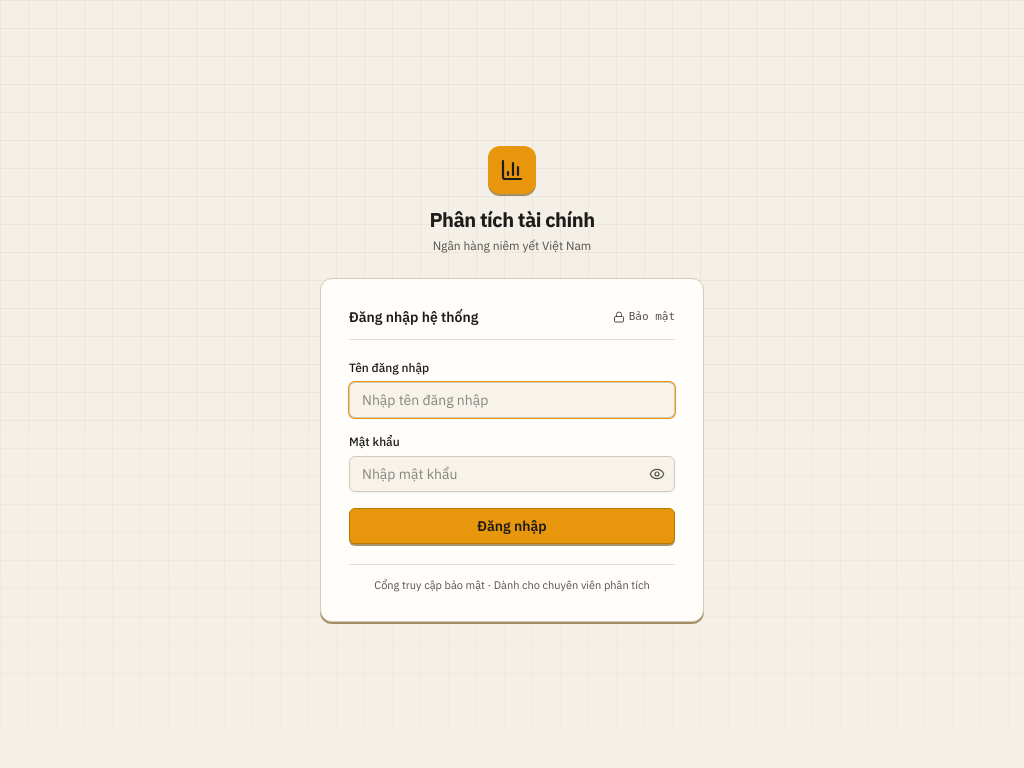
it: LoginPage › displays Vietnamese error message on invalid credentials (401)
Step 1. Type "analyst" into the field labelled "Tên đăng nhập" → (512, 400), box [349,382,675,418]
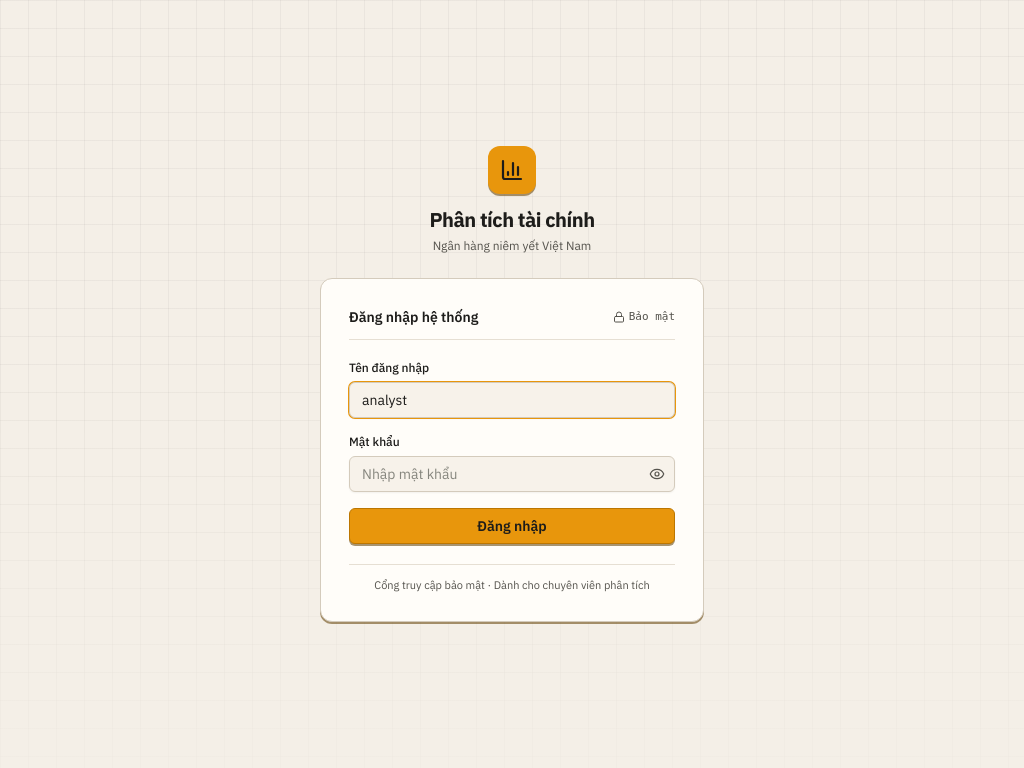
Step 2. Type "wrongpassword" into the password field labelled "Mật khẩu" → (512, 474), box [349,456,675,492]
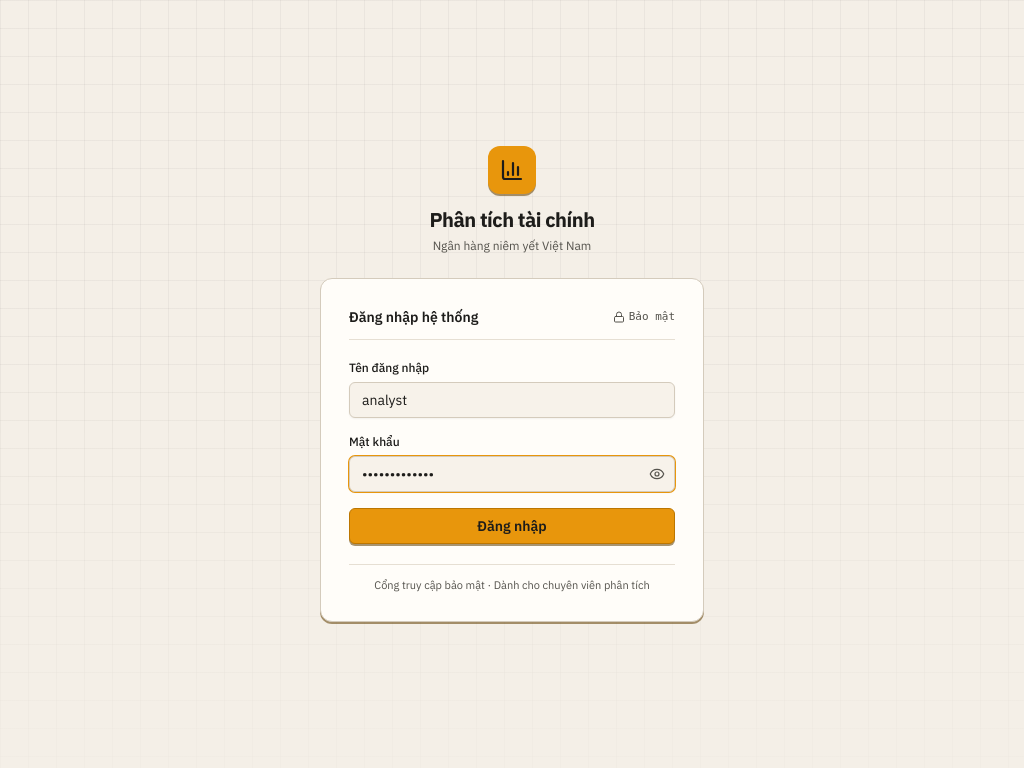
Step 3. Click the button "Đăng nhập" → (512, 526), box [349,508,675,544]
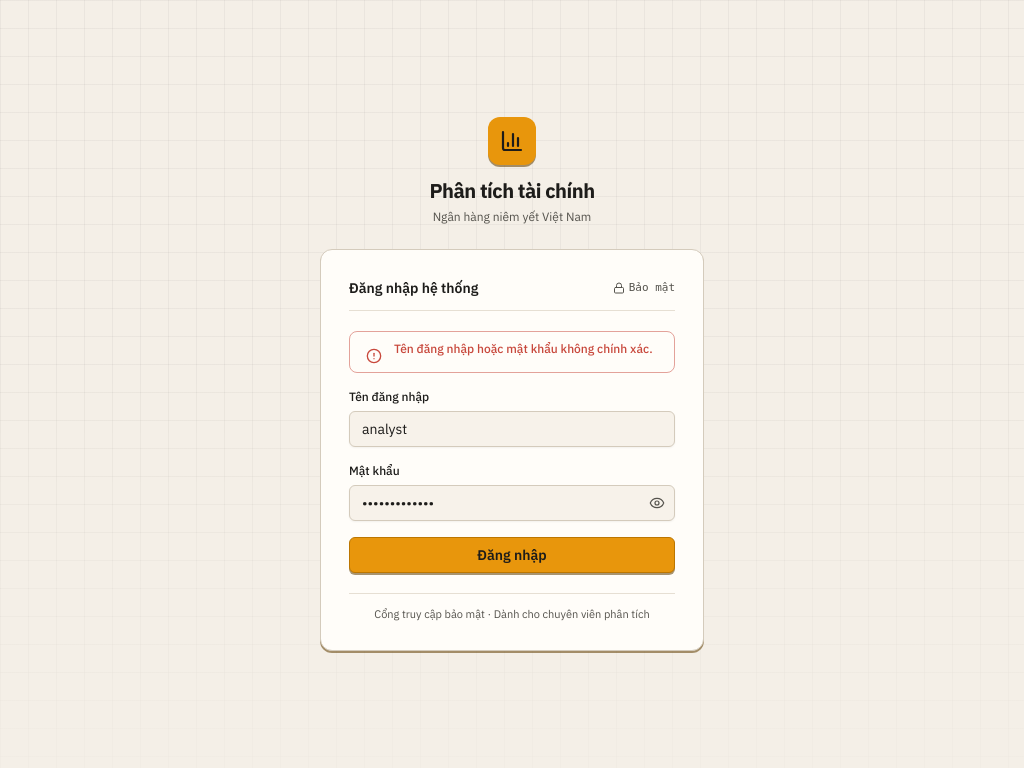
Expected: the text "Tên đăng nhập hoặc mật khẩu không chính xác." is shown, [366,341,658,357]
